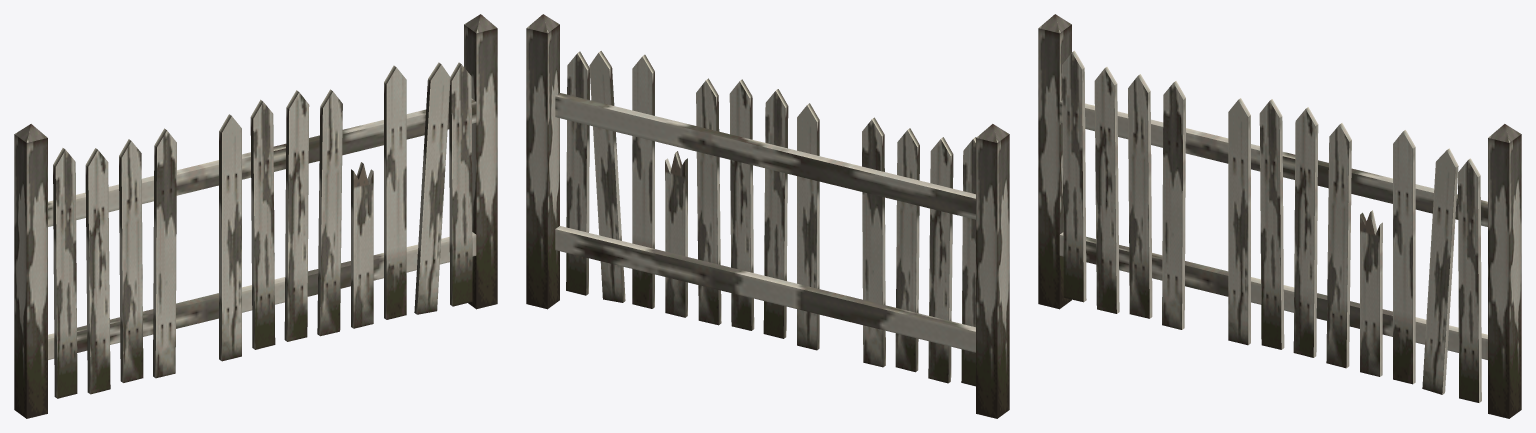
Rendered from fence_wooden.obj.
3 renders of one model, left to right at view 1: azimuth 30°, elevation 25°; view 2: azimuth 150°, elevation 25°; view 3: azimuth 330°, elevation 25°, orthographic.
Parts seen in each view (by area): view 1: fence_wooden; view 2: fence_wooden; view 3: fence_wooden.
Part boxes in pixels (x1=…): fence_wooden: x1=14, y1=14, x2=497, y2=418; fence_wooden: x1=526, y1=14, x2=1009, y2=418; fence_wooden: x1=1038, y1=14, x2=1521, y2=418.
Size of the model in its own units: 2 by 1.17 by 0.114.
1 material, 1 textured.
